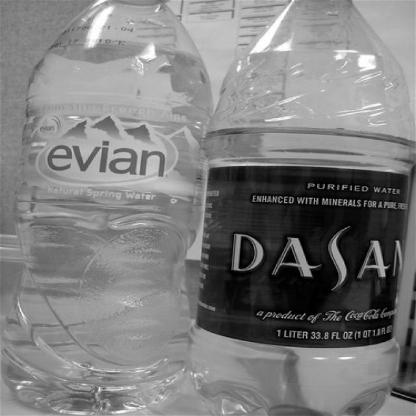Plastic Bottle: (190, 0, 415, 416), (1, 0, 212, 415)
